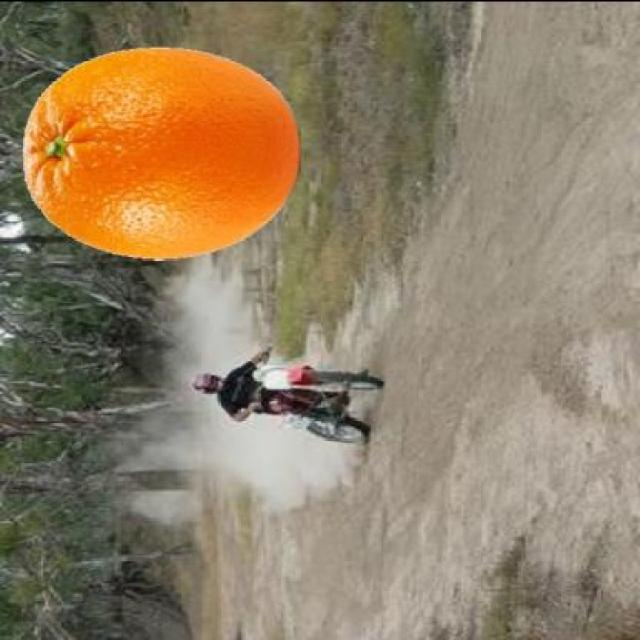Orange: (20, 45, 302, 262)
